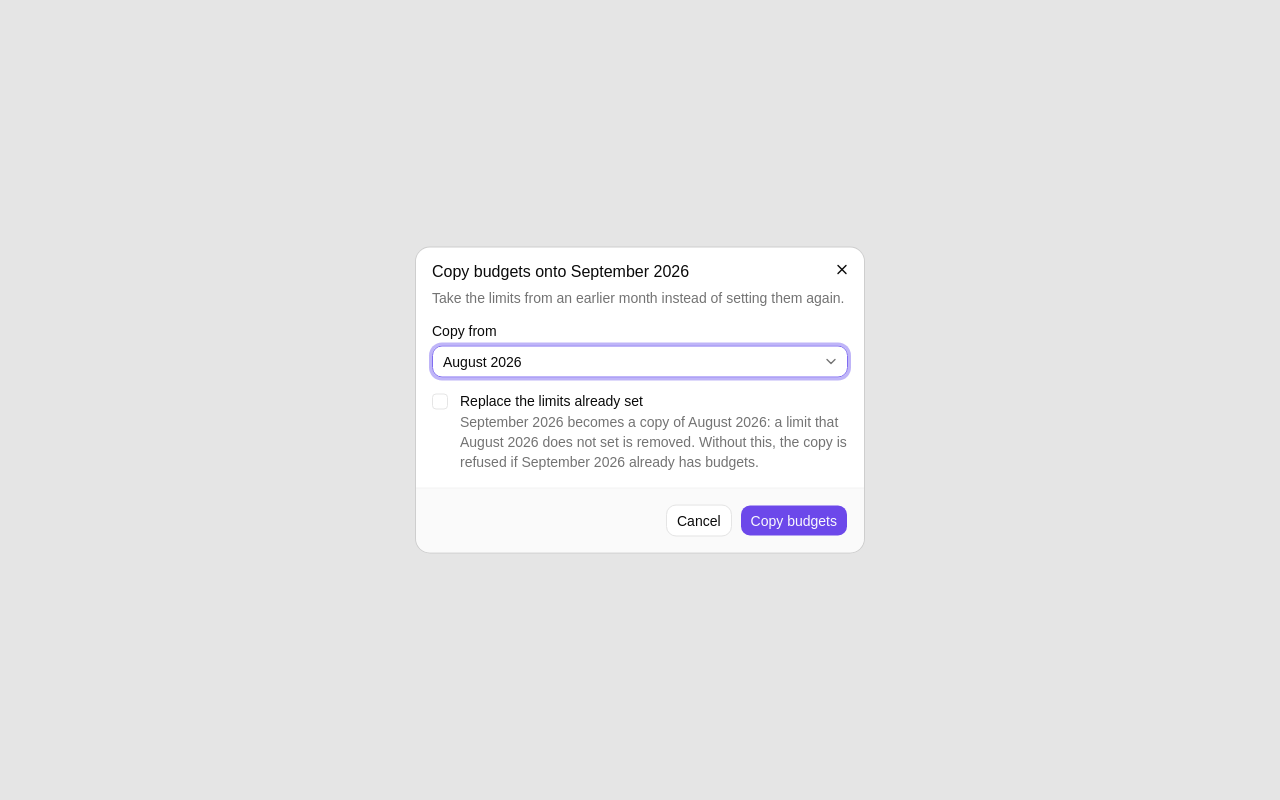
when what the removals are read from does not load › holds a replace back while they are still on the way
The width and height of the screenshot is (1280, 800).
Click the checkbox named "Replace the limits already set": (440, 402) [432,394,448,410]
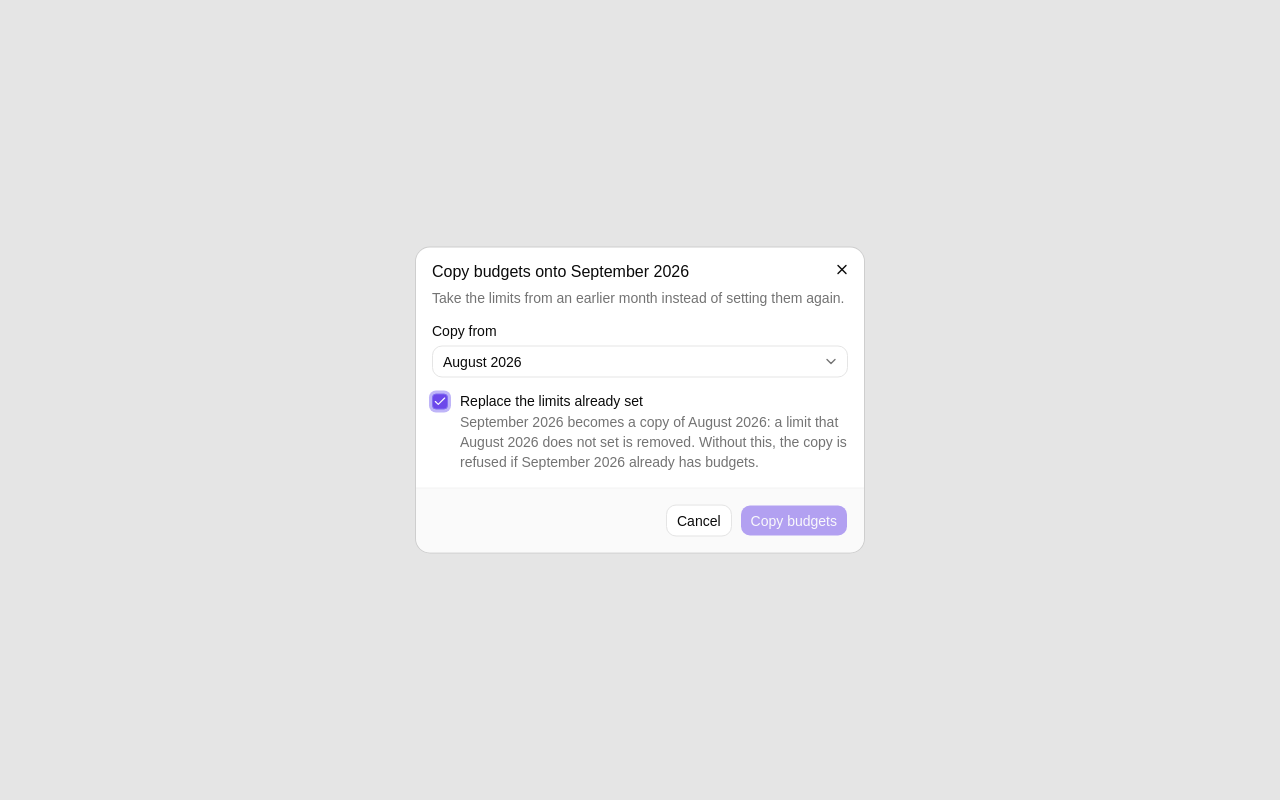
Expected: the button "Copy budgets" is disabled, [740,504,848,536]
